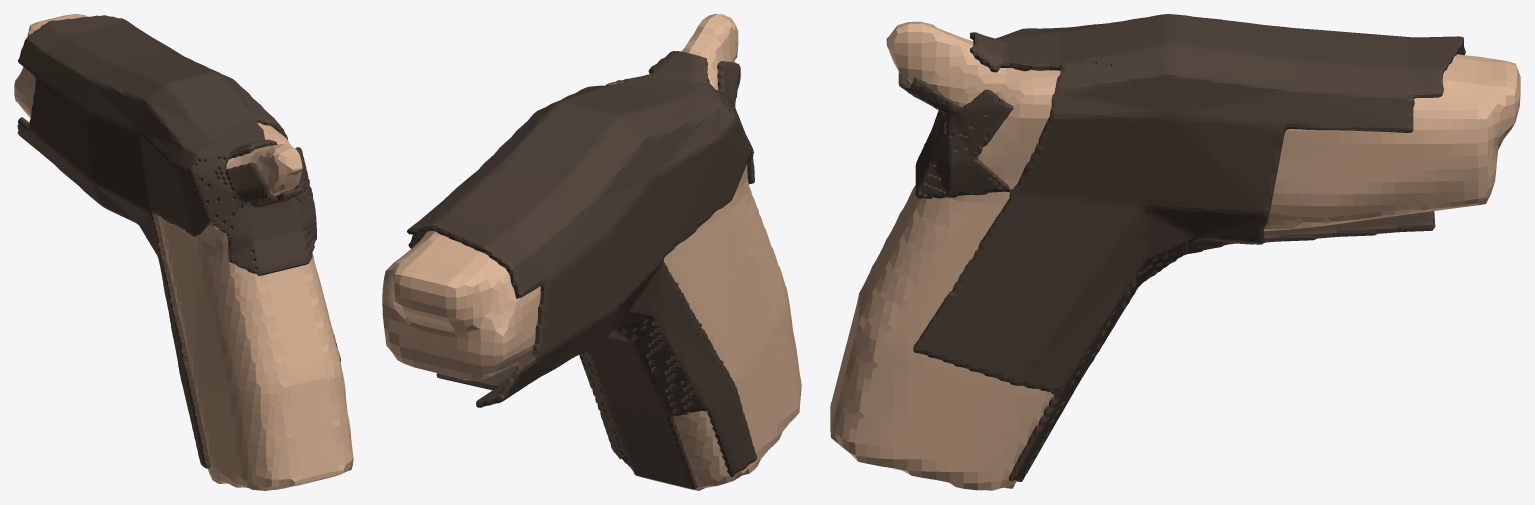
Rendered from pistolklacek.fbx.
3 renders of one model, left to right at view 1: azimuth 30°, elevation 25°; view 2: azimuth 150°, elevation 25°; view 3: azimuth 270°, elevation 25°, orthographic. The views are drawn at different scales.
Parts seen in each view (by area): view 1: rough.012, rough.013; view 2: rough.012, rough.013; view 3: rough.012, rough.013.
Part boxes in pixels (x1,y1,x2,y2): rough.012: [17, 15, 340, 468]; rough.013: [14, 14, 353, 490]; rough.012: [407, 51, 756, 489]; rough.013: [382, 14, 801, 490]; rough.012: [898, 14, 1465, 481]; rough.013: [830, 21, 1520, 490].
Size of the model in its own units: 122 by 357 by 496.
